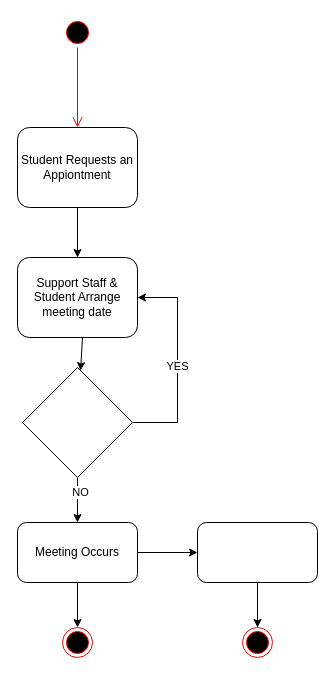
Some shapes in this 335 by 675 pixel diagram are drawn without their labels. Each missing label, with the centre of its shape:
"Follow-ups" goes at point (257, 552).
"Reschedule" goes at point (77, 422).
